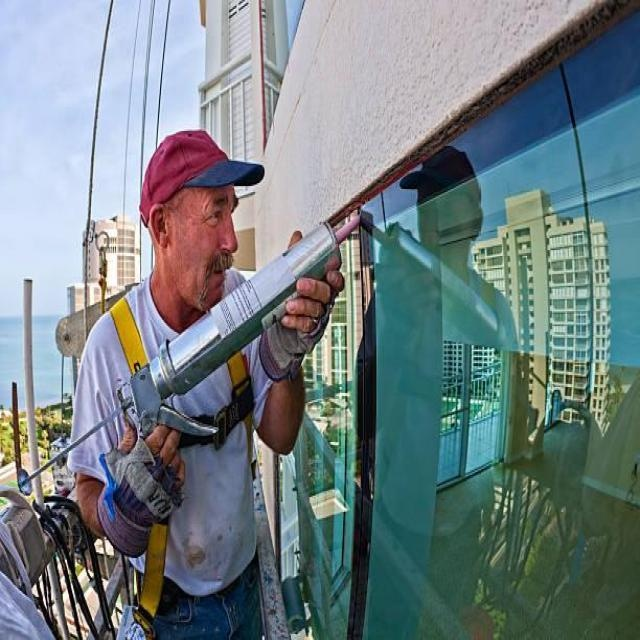Arnes_seguridad: (105, 294, 266, 629)
